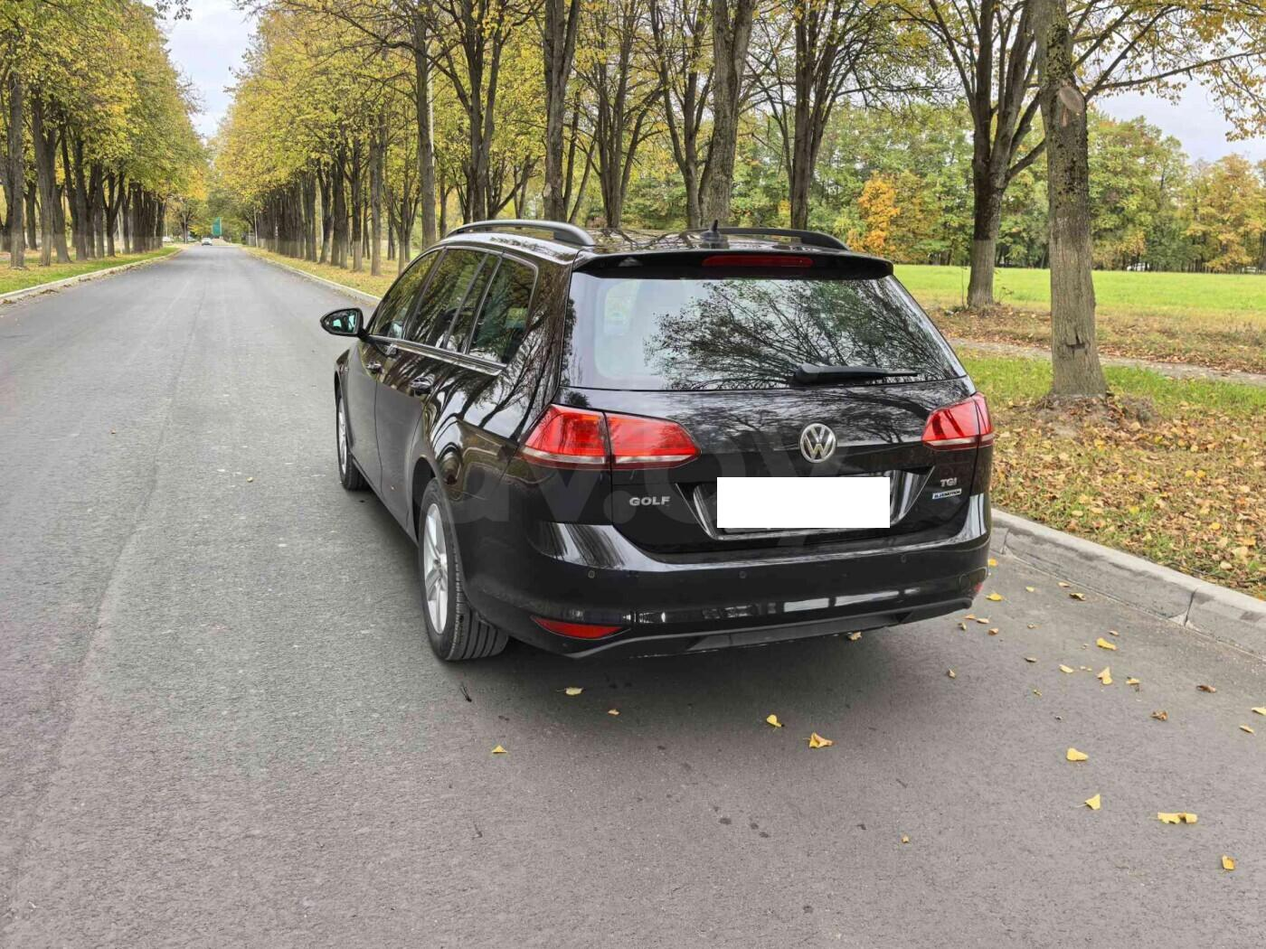Golf_2012-2017: (320, 223, 1003, 685)
